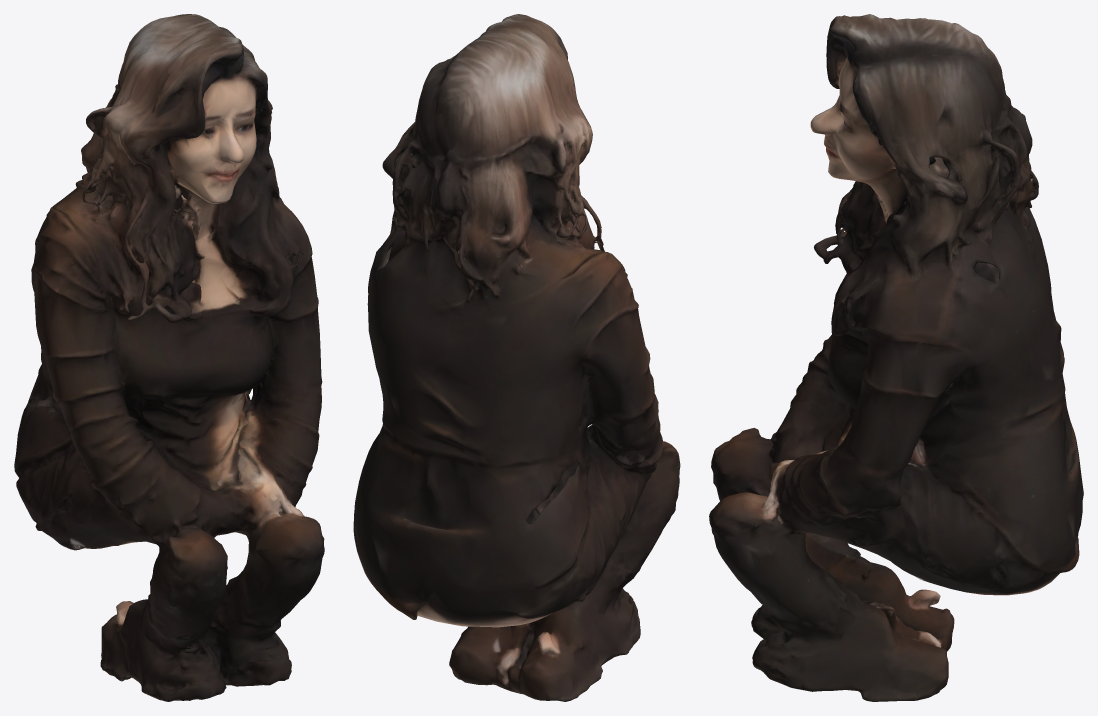
The model's file is cozy_final.glb.
The picture shows the model from 3 angles, left to right: view 1: azimuth 30°, elevation 25°; view 2: azimuth 150°, elevation 25°; view 3: azimuth 270°, elevation 25°; orthographic projection. The views are drawn at different scales.
Size of the model in its own units: 0.8818 by 2 by 1.03.
1 material, 1 textured.
